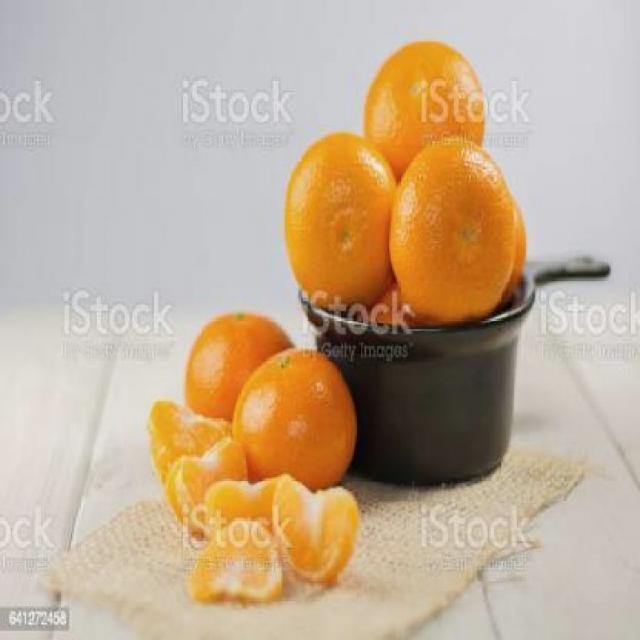Jeruk Sudah Matang: (394, 129, 514, 322), (283, 134, 403, 316), (363, 39, 486, 204), (233, 350, 361, 499), (180, 312, 302, 446)
